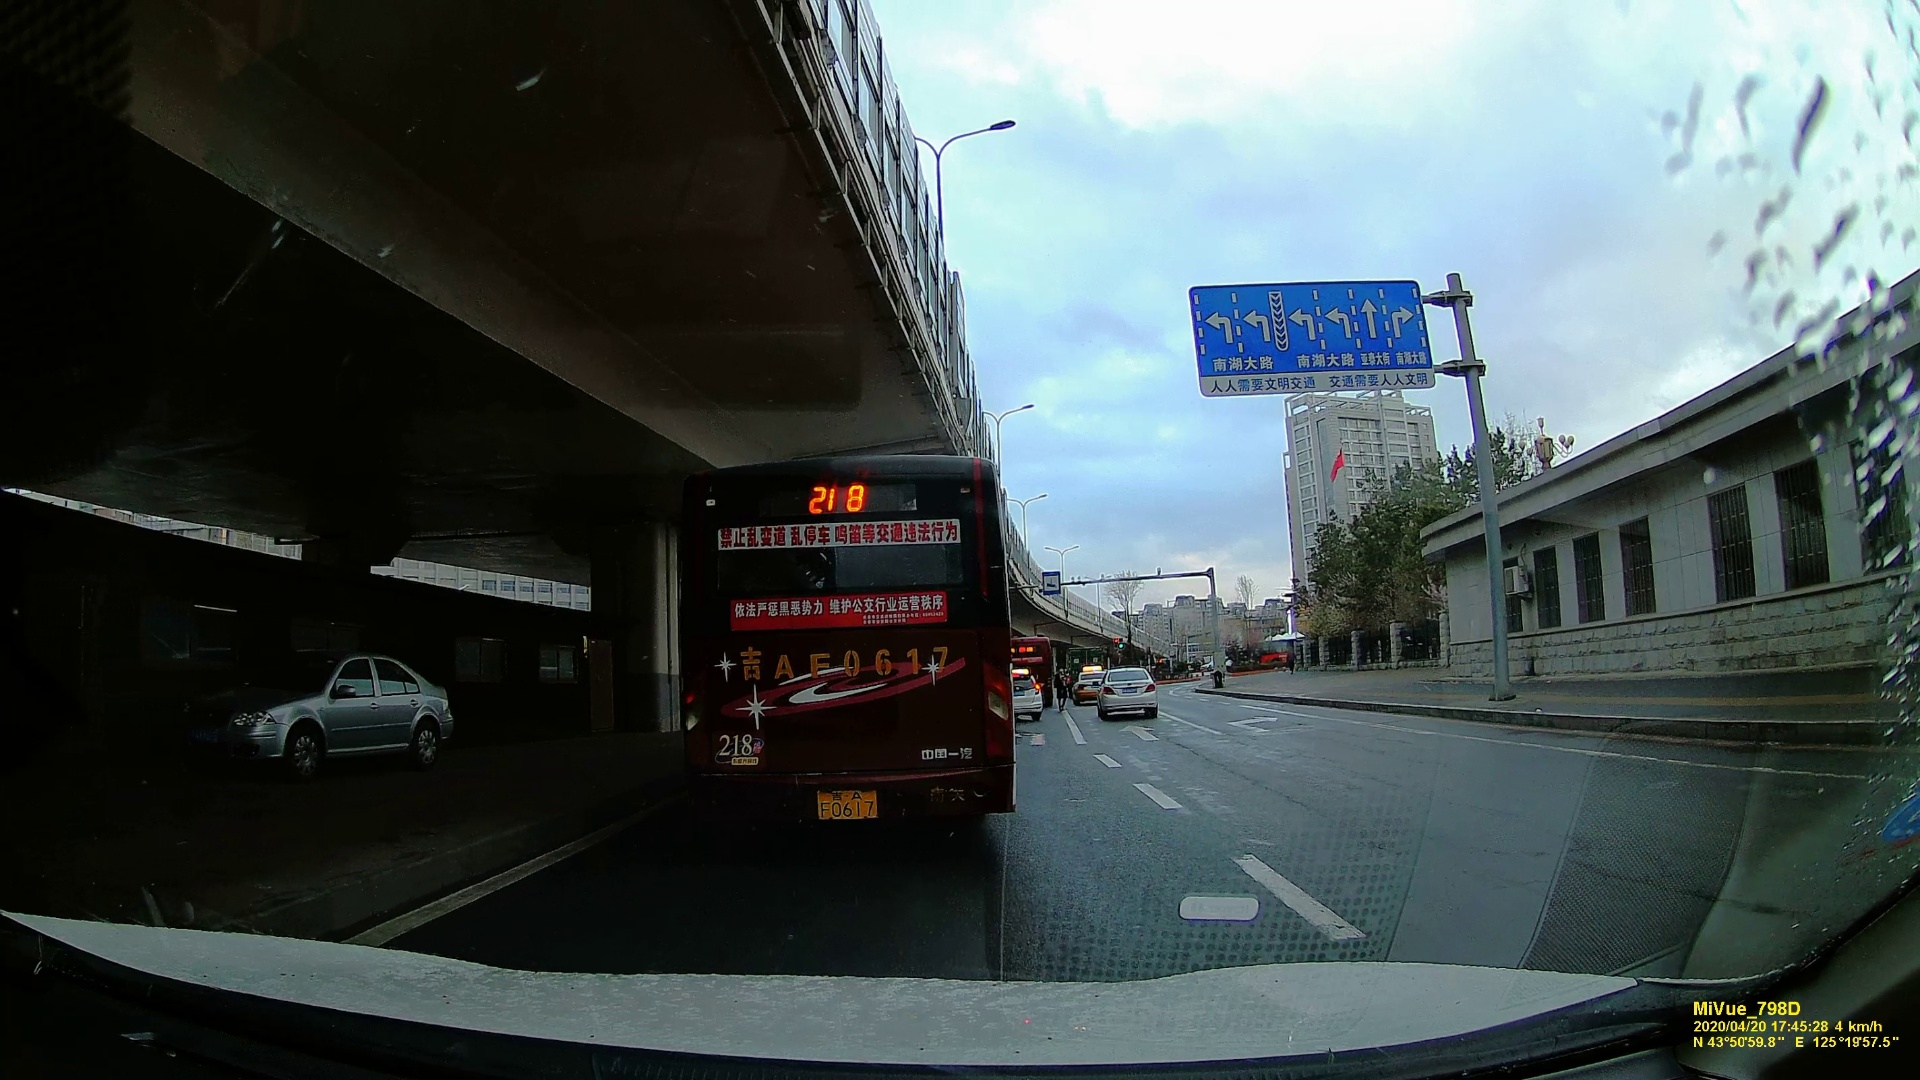bus: (686, 464, 1014, 821)
person: (1052, 667, 1068, 711), (1285, 645, 1297, 673)
traffic_sign: (1196, 282, 1435, 393)
vehicle: (230, 655, 454, 771), (1099, 669, 1155, 716)
